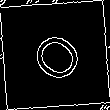O_SE: (21, 22, 89, 88)
